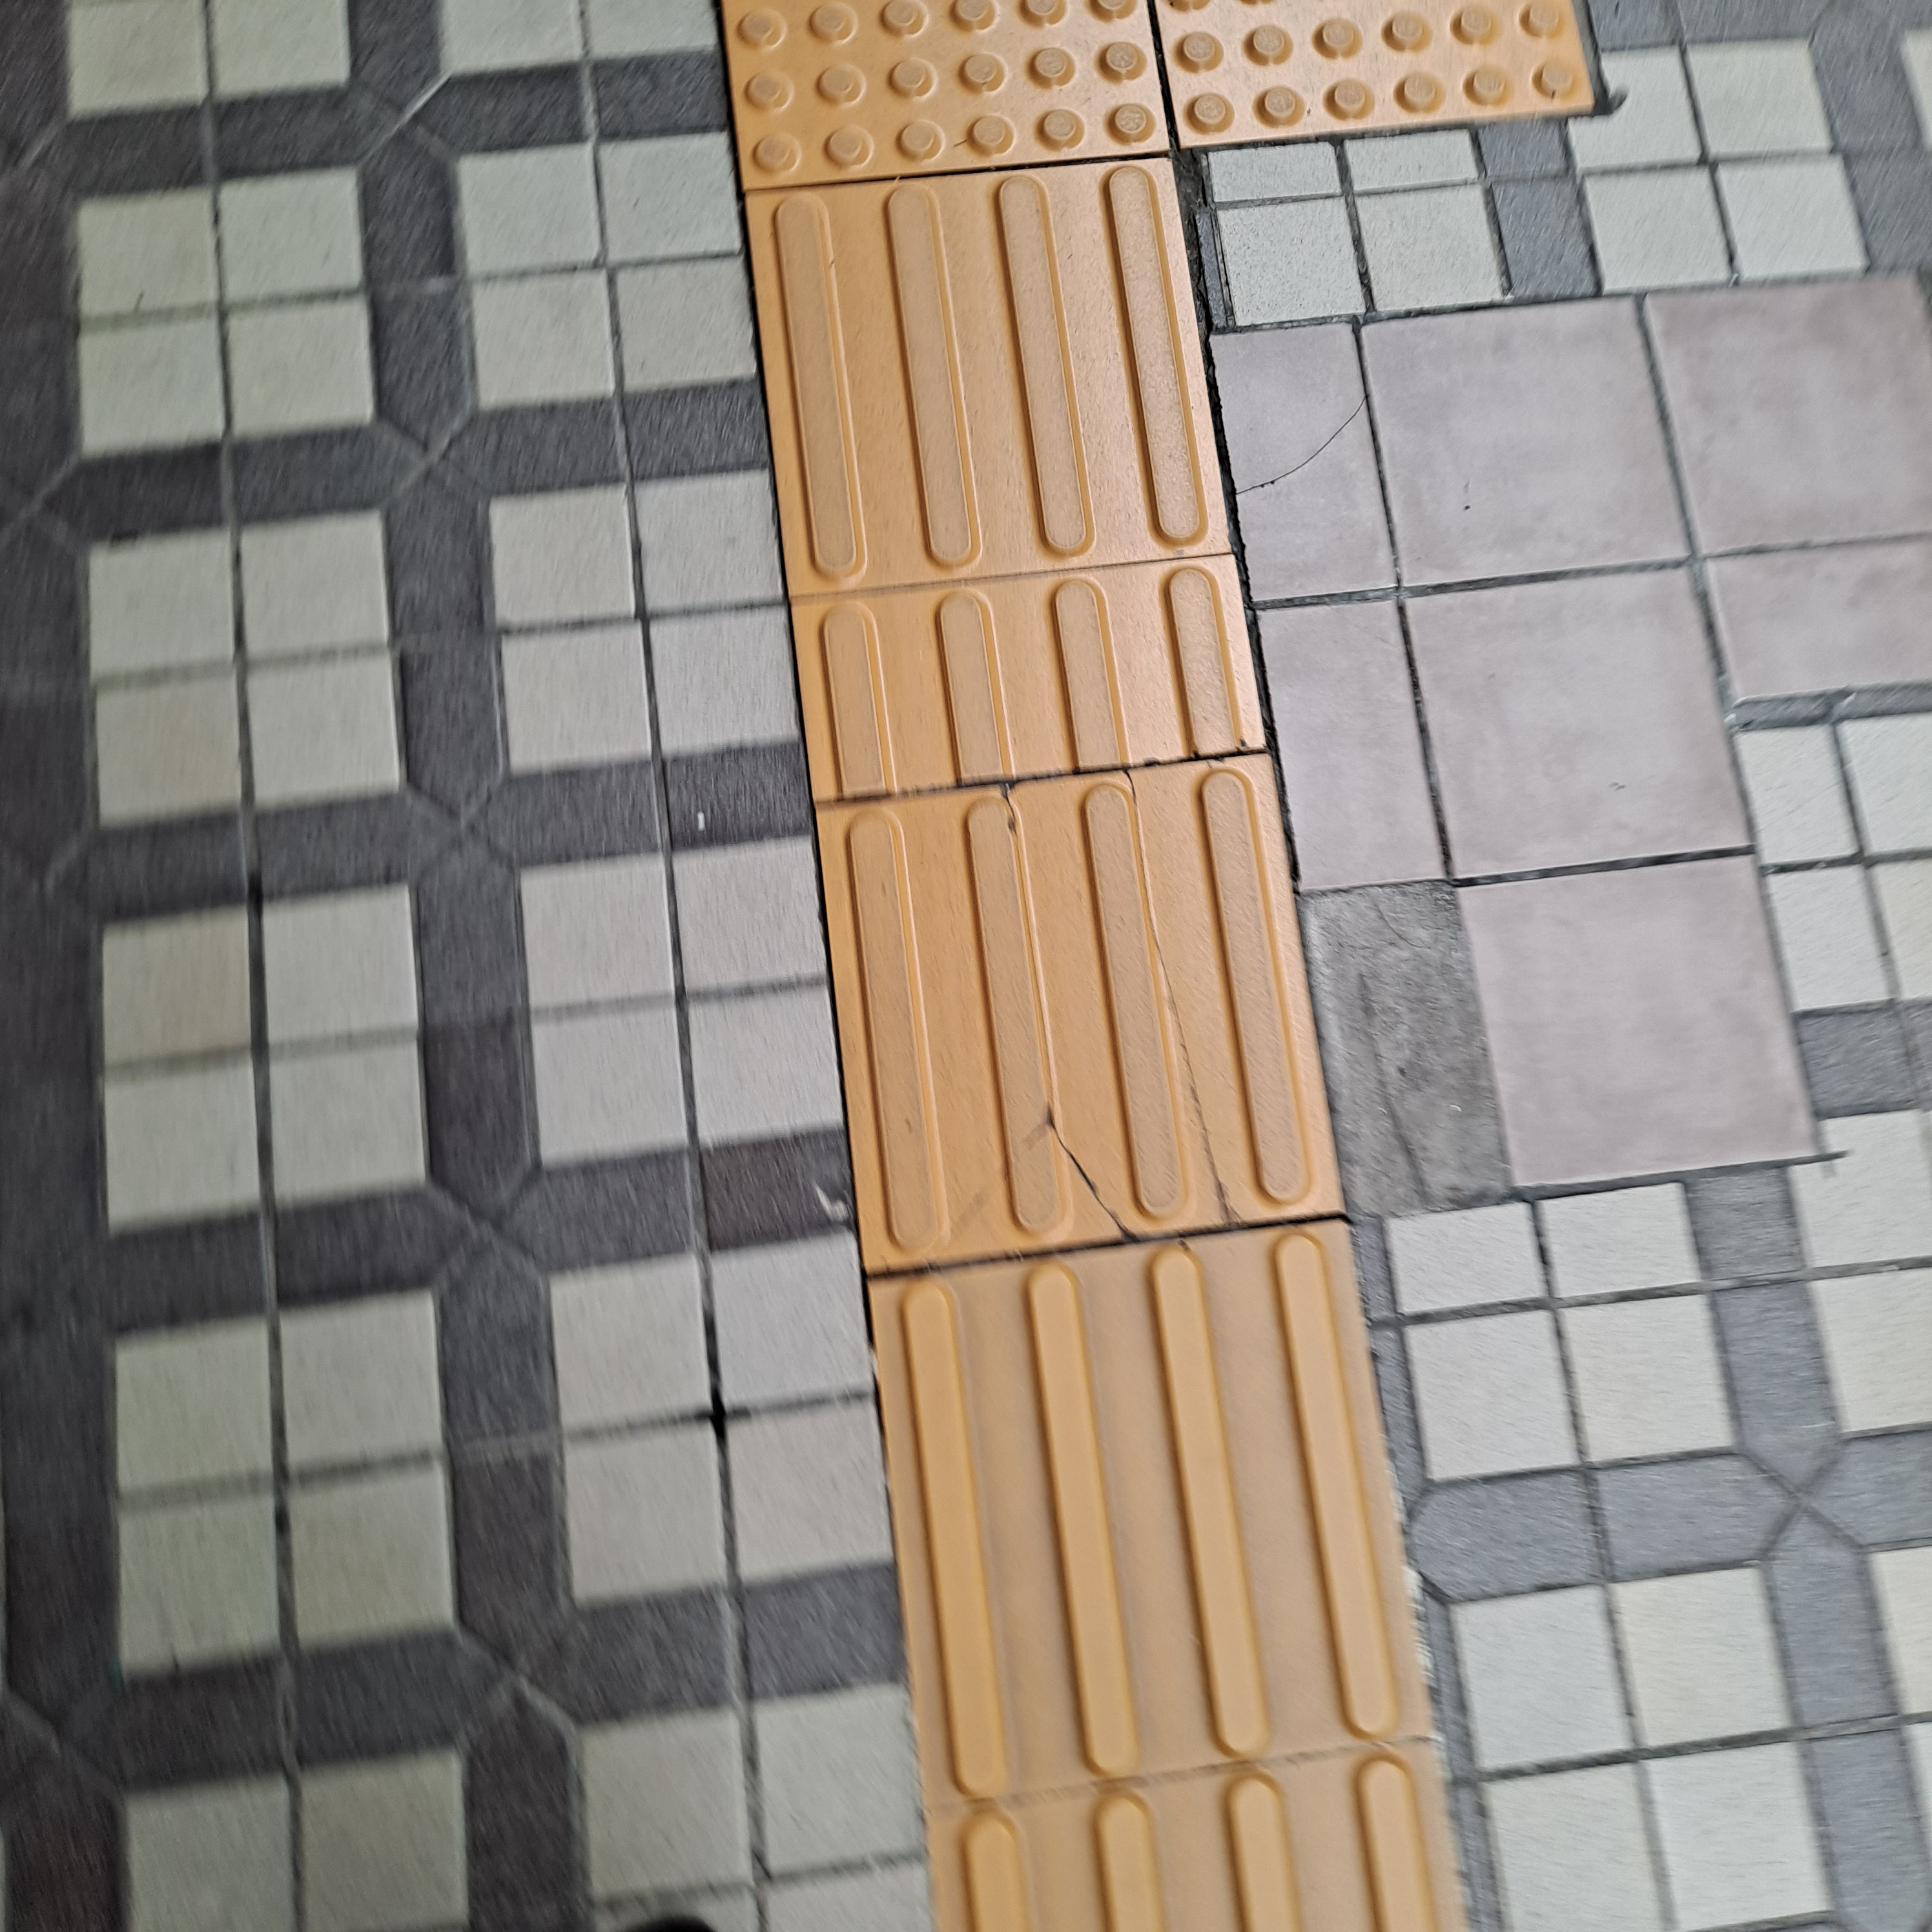guideBlock: (872, 1267, 1447, 1792), (823, 780, 1304, 1233), (761, 179, 1219, 563), (807, 587, 1242, 793)
